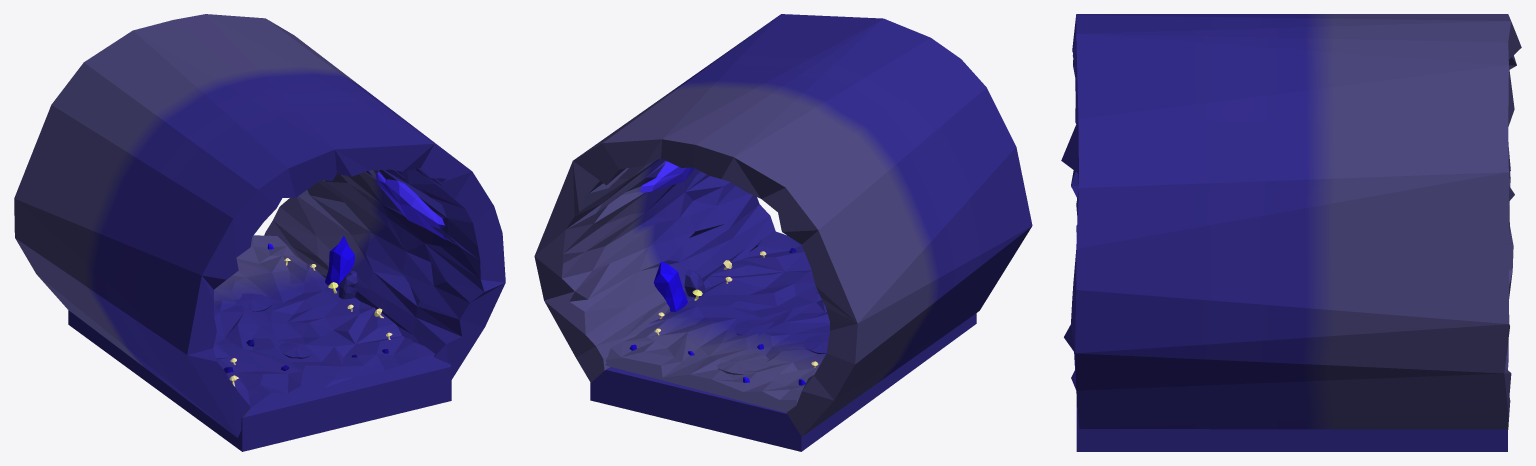
The model's file is MAP_ver2_ All Plus Final .fbx.
3 views of the same model, side by side, from view 1: azimuth 30°, elevation 25°; view 2: azimuth 150°, elevation 25°; view 3: azimuth 270°, elevation 25° (orthographic). The views are drawn at different scales.
Parts seen in each view (by area): view 1: Cube.023; view 2: Cube.023; view 3: Cube.023.
Boxes of the visible parts, x1,y1,x2,y2 form: Cube.023: (14, 14, 505, 451); Cube.023: (534, 14, 1032, 451); Cube.023: (1061, 14, 1521, 451).
Bounding box in the file's own units: 2737 × 2351 × 2754.
